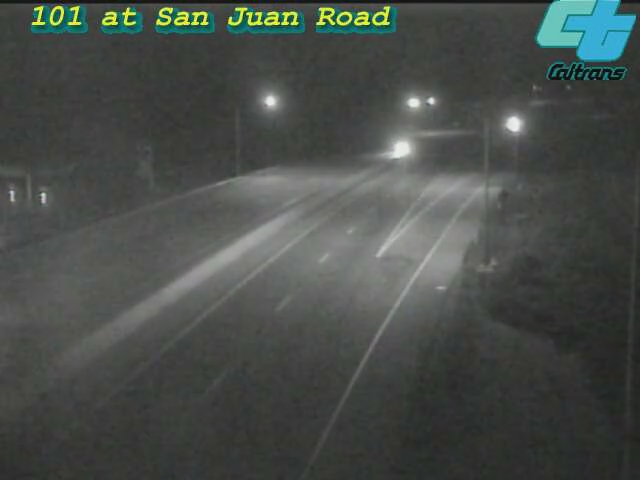vehicle: (377, 124, 427, 174), (488, 100, 538, 150)
